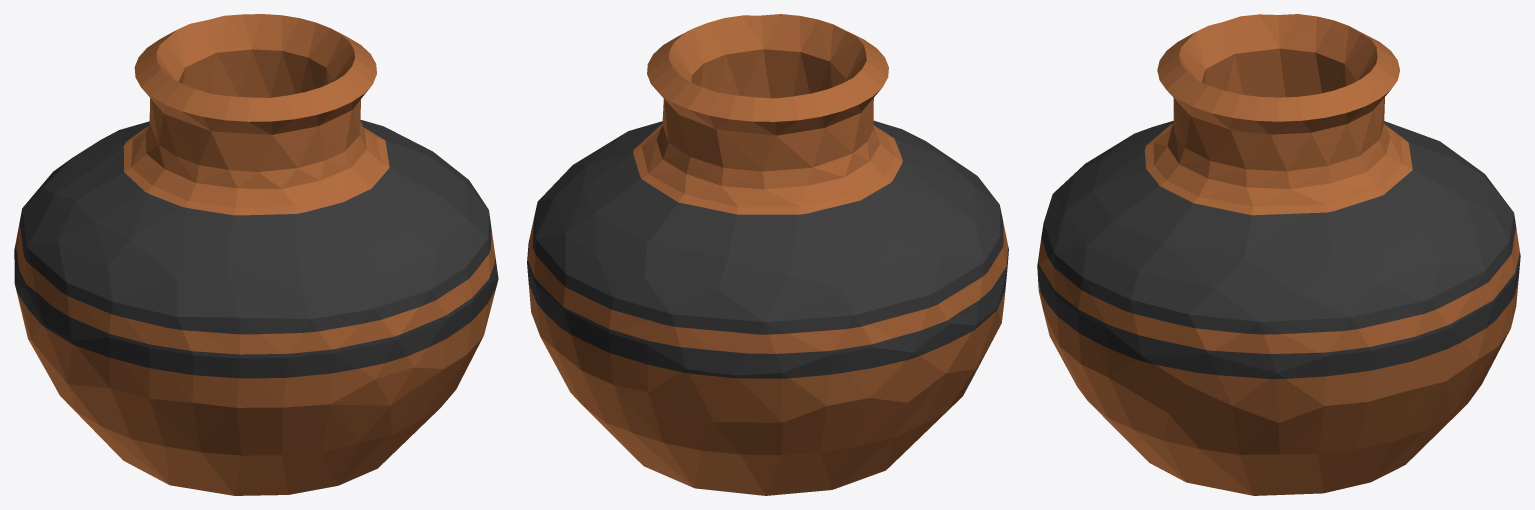
File: Pottery 15_1.fbx
3 renders of one model, left to right at view 1: azimuth 30°, elevation 25°; view 2: azimuth 150°, elevation 25°; view 3: azimuth 270°, elevation 25°, orthographic.
Parts seen in each view (by area): view 1: Pottery 15_1; view 2: Pottery 15_1; view 3: Pottery 15_1.
Part boxes in pixels (x1,y1,x2,y2): Pottery 15_1: (14,14,498,495); Pottery 15_1: (527,14,1008,495); Pottery 15_1: (1037,14,1520,495).
Bounding box in the file's own units: 53.28 × 45.94 × 52.98.
